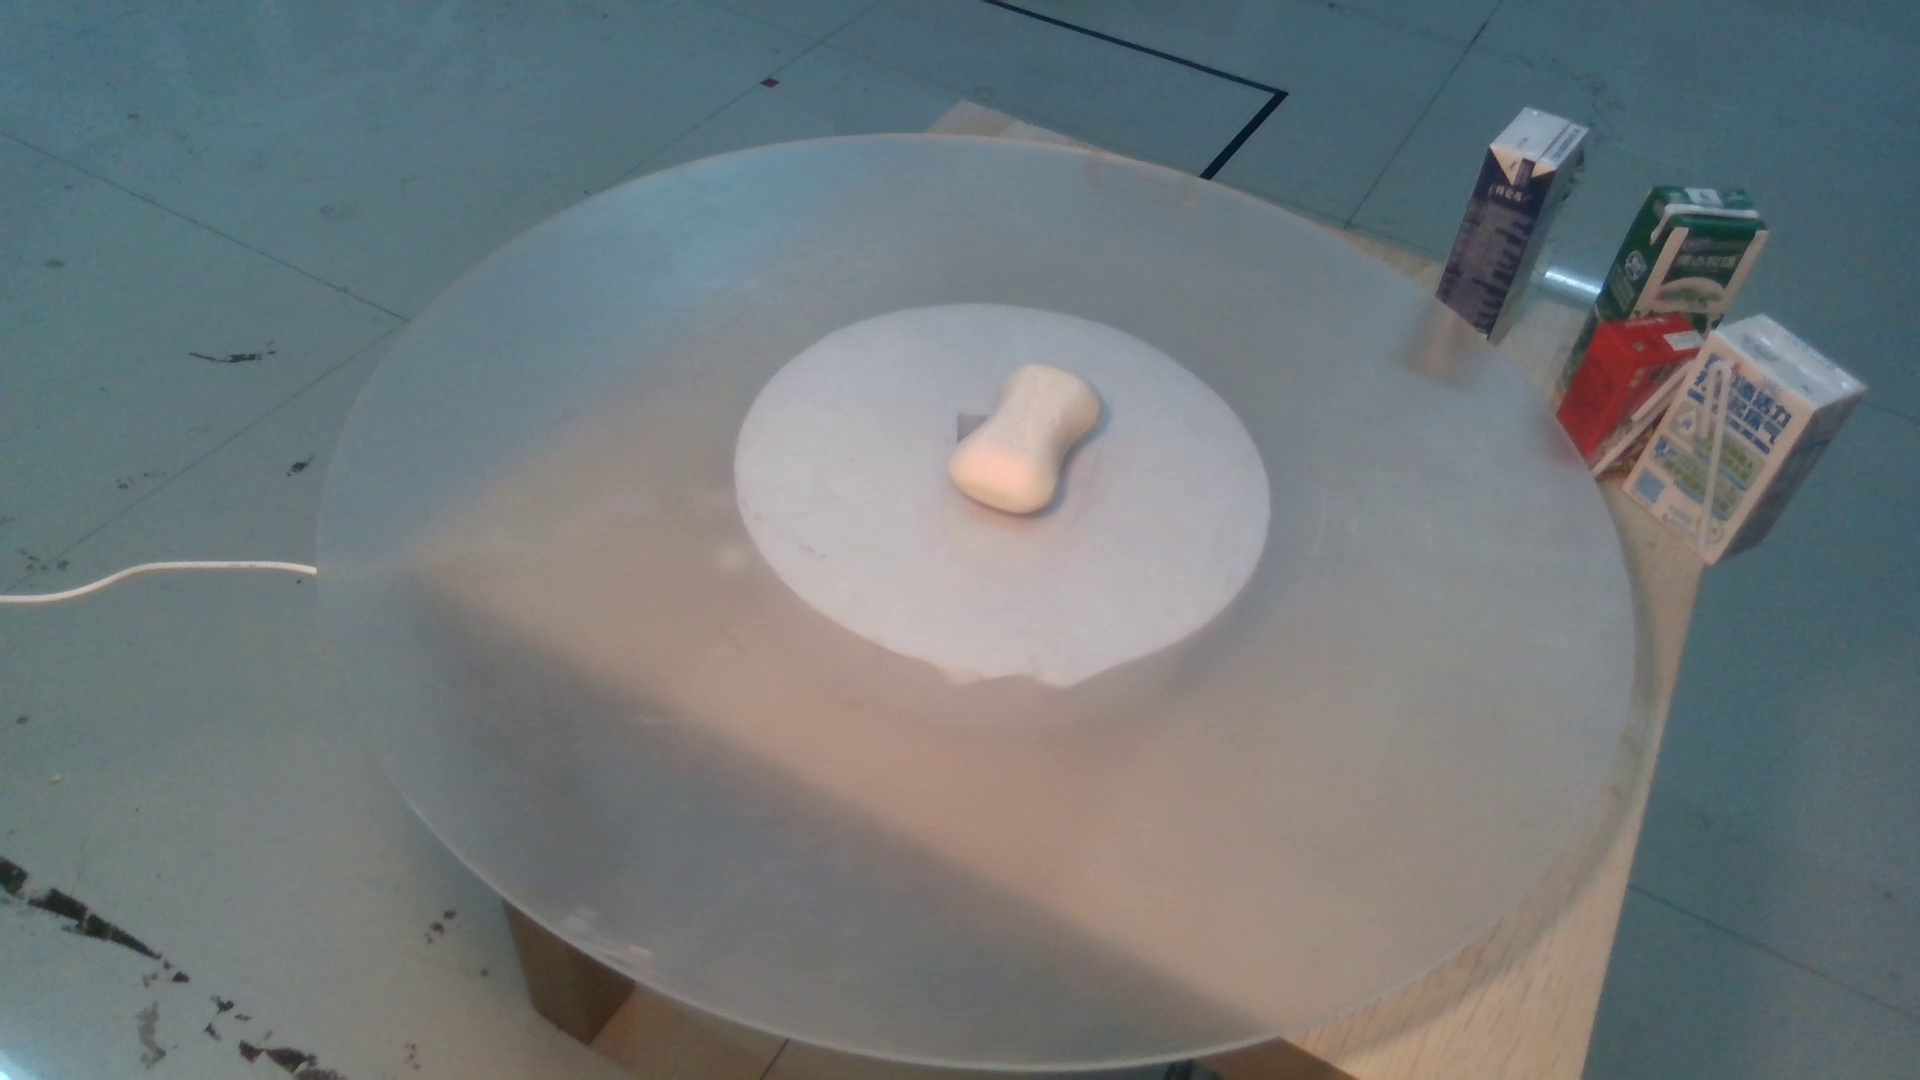CA003_1: (942, 355, 1113, 520)
